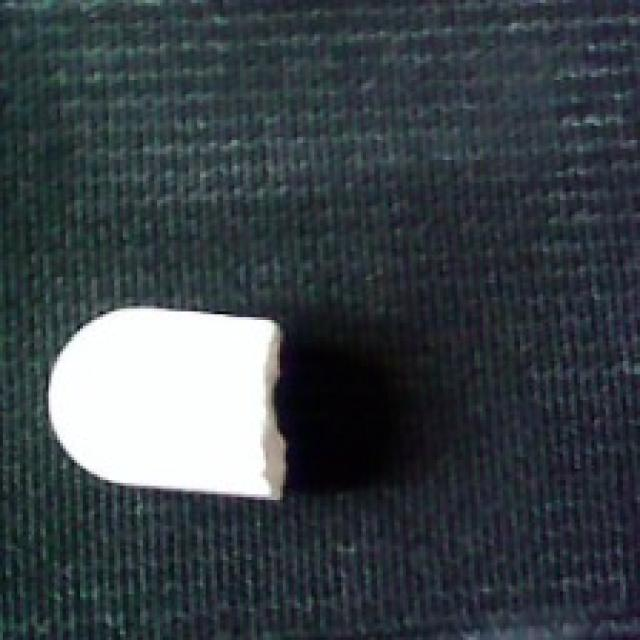defected: (40, 294, 294, 503)
